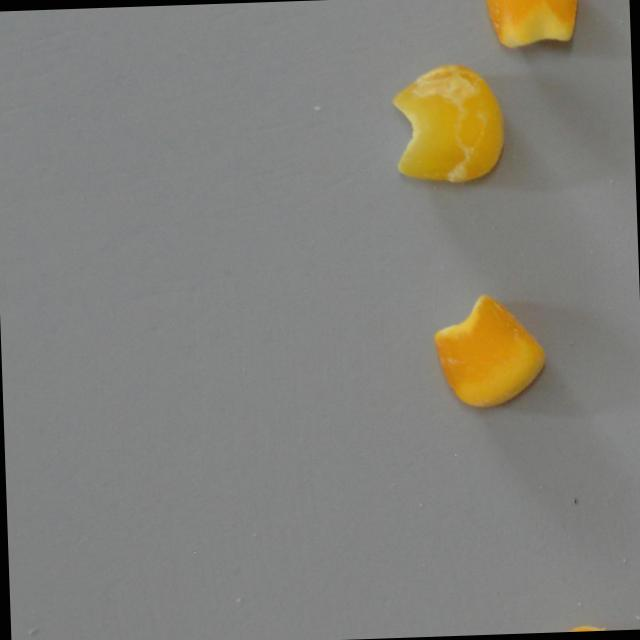pelicula: (387, 57, 511, 188), (430, 289, 550, 413), (485, 0, 584, 52)
